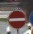No entry: (6, 6, 28, 29)
